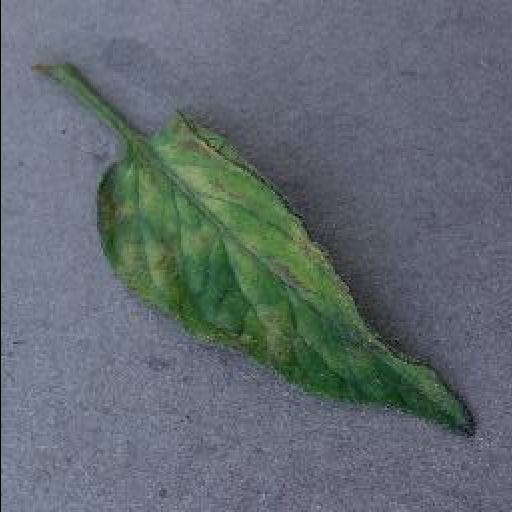disease_tomato: (95, 106, 477, 438)
